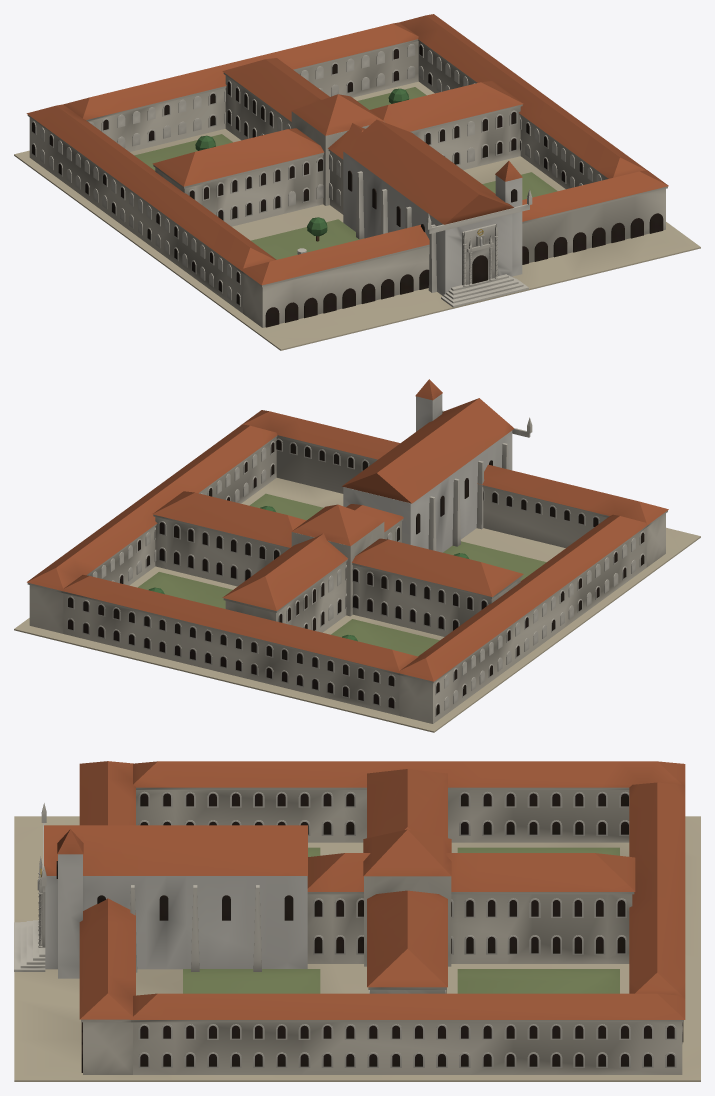
File: hospital-todos-os-santos.glb
The picture shows the model from 3 angles, top to bottom: view 1: azimuth 30°, elevation 25°; view 2: azimuth 150°, elevation 25°; view 3: azimuth 270°, elevation 25°; orthographic projection. The views are drawn at different scales.
Visible parts, largest first — view 1: p1_wards, p2_church, p0_ground; view 2: p1_wards, p2_church, p0_ground; view 3: p1_wards, p2_church, p0_ground.
Part boxes in pixels (x1,y1,x2,y2): p1_wards: (26,14,668,327); p2_church: (342,119,532,307); p0_ground: (14,81,700,350); p1_wards: (27,410,668,723); p2_church: (342,379,532,552); p0_ground: (14,478,700,732); p1_wards: (79,761,685,1074); p2_church: (14,803,307,978); p0_ground: (14,816,700,1081).
Size of the model in its own units: 100 by 25.8 by 110.
